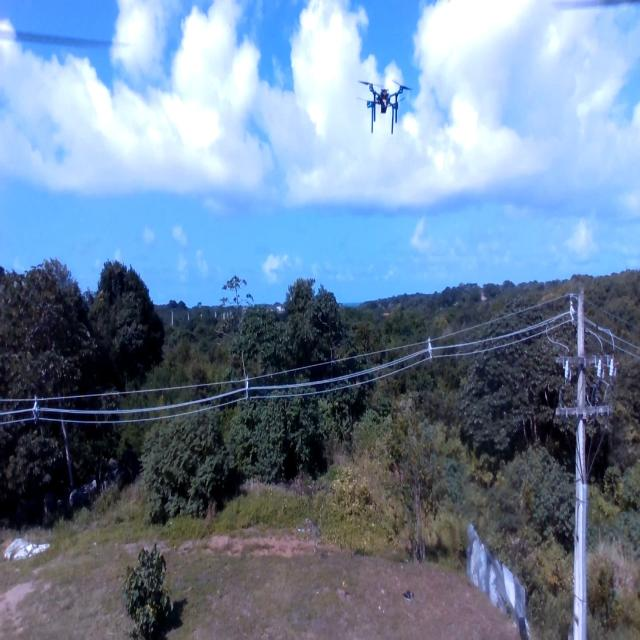-uav-: (343, 52, 427, 154)
